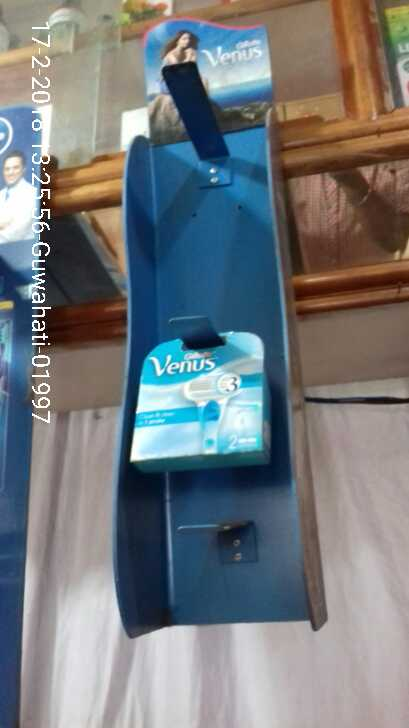venus: (122, 330, 281, 464)
